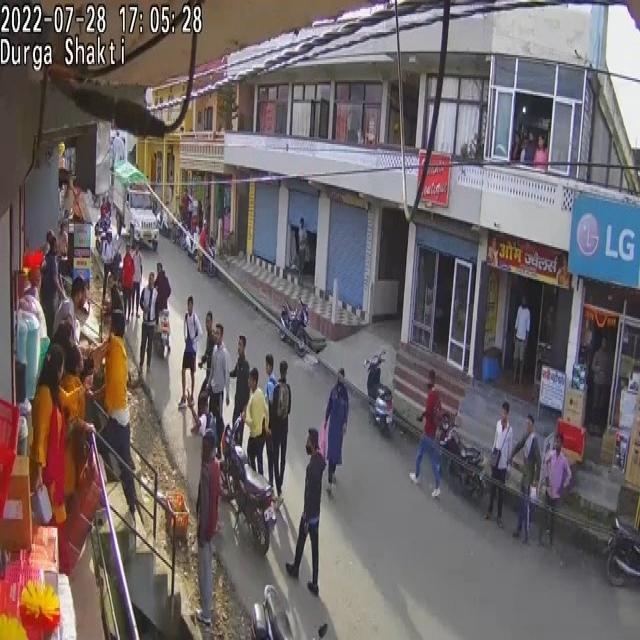fight: (19, 216, 165, 532), (30, 342, 77, 532), (53, 316, 102, 438)
non-fight: (190, 318, 293, 502), (90, 309, 136, 525), (285, 429, 325, 598), (195, 424, 221, 629), (409, 372, 448, 494), (508, 418, 544, 542), (484, 405, 518, 527), (539, 435, 572, 549), (268, 360, 292, 495), (243, 370, 270, 479), (323, 370, 349, 480), (178, 296, 202, 408), (208, 326, 231, 442), (588, 336, 611, 432), (138, 272, 159, 376), (39, 240, 61, 337), (229, 336, 250, 431), (512, 294, 532, 385), (302, 453, 325, 530), (121, 245, 137, 321), (264, 354, 278, 414), (298, 218, 308, 274)
